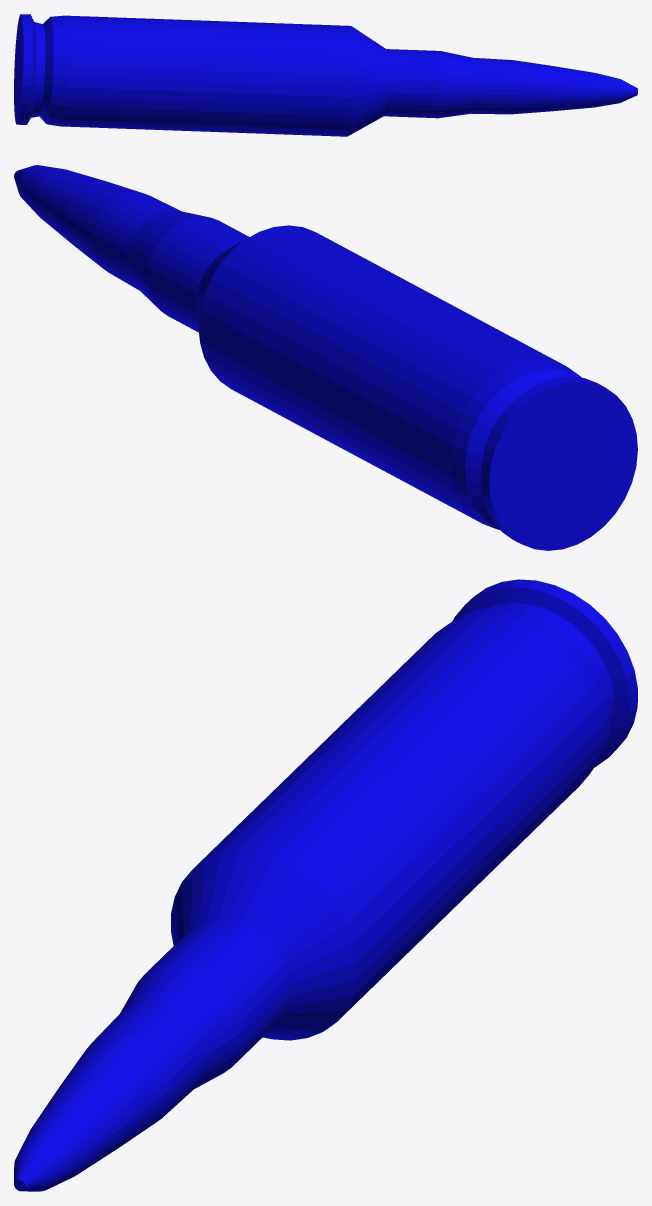
Rendered from bala.fbx.
3 views of the same model, one above another, from view 1: azimuth 30°, elevation 25°; view 2: azimuth 150°, elevation 25°; view 3: azimuth 270°, elevation 25° (orthographic). The views are drawn at different scales.
Visible parts, largest first — view 1: Cylinder.001; view 2: Cylinder.001; view 3: Cylinder.001.
Boxes of the visible parts, box(x1,y1,x2,y2) form: Cylinder.001: box(14, 14, 637, 136); Cylinder.001: box(14, 165, 637, 550); Cylinder.001: box(14, 579, 637, 1191).
Bounding box in the file's own units: 123 × 28 × 69.85.
